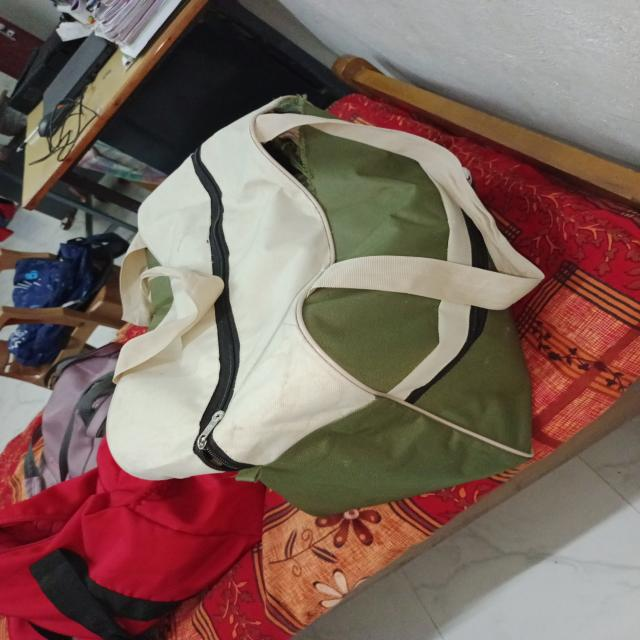suitcaserotation: (101, 90, 548, 519), (0, 431, 272, 639)
